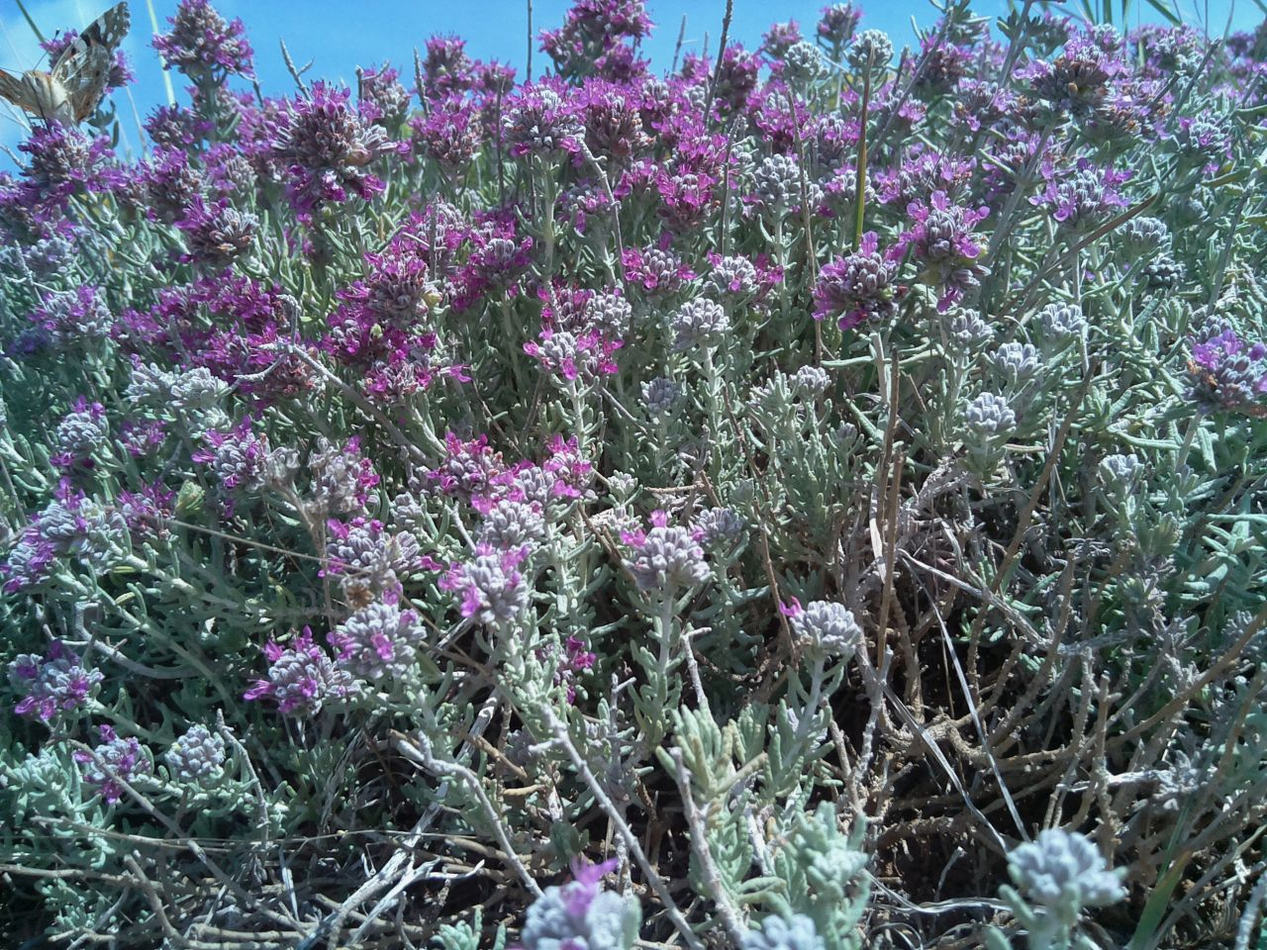Butterfly: (1, 3, 152, 167)
